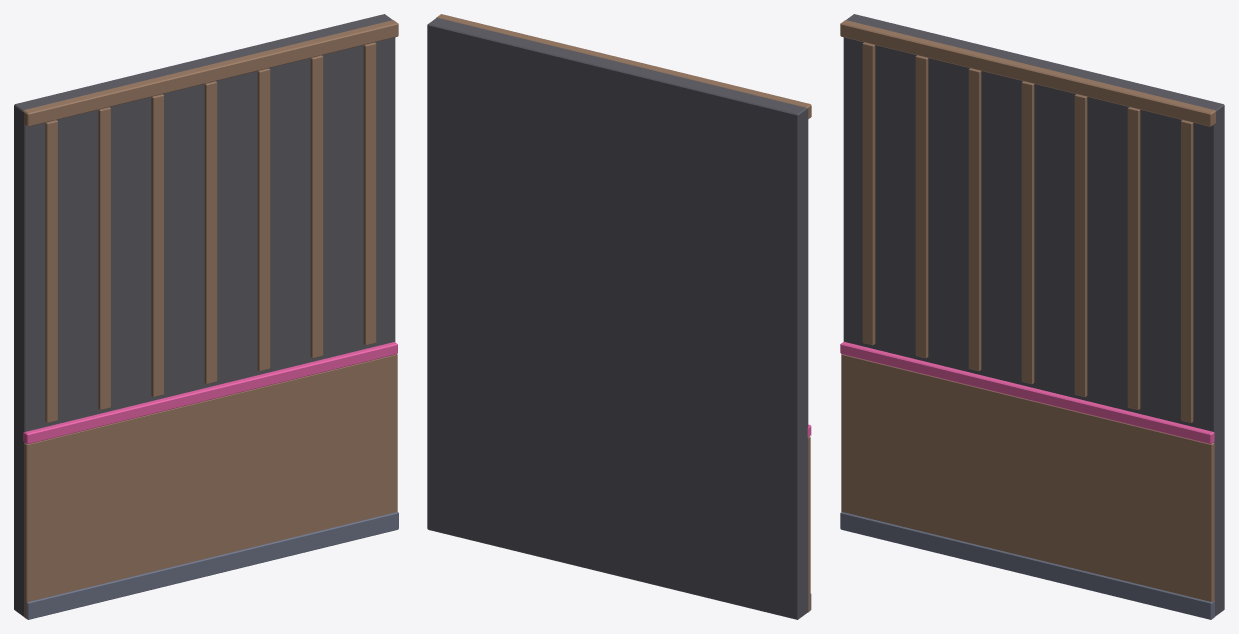
File: wall-panel.glb
3 views of the same model, side by side, from view 1: azimuth 30°, elevation 25°; view 2: azimuth 150°, elevation 25°; view 3: azimuth 330°, elevation 25° (orthographic).
Visible parts, largest first — view 1: wall-panel-module; view 2: wall-panel-module; view 3: wall-panel-module.
Boxes of the visible parts, box(x1,y1,x2,y2) form: wall-panel-module: box(14, 14, 398, 619); wall-panel-module: box(427, 14, 811, 619); wall-panel-module: box(840, 14, 1224, 619).
Size of the model in its own units: 2 by 2.6 by 0.1309.
